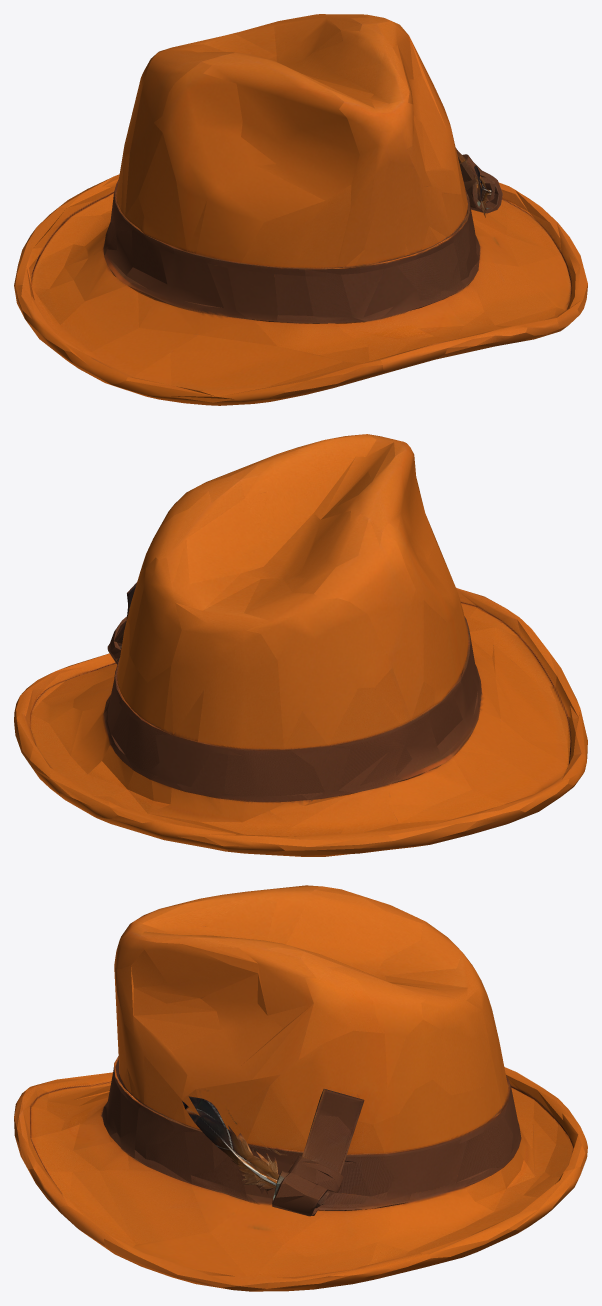
File: fedora.glb
The picture shows the model from 3 angles, top to bottom: view 1: azimuth 30°, elevation 25°; view 2: azimuth 150°, elevation 25°; view 3: azimuth 270°, elevation 25°; orthographic projection. The views are drawn at different scales.
Size of the model in its own units: 1.9 by 0.9517 by 1.89.
1 material, 1 textured.
